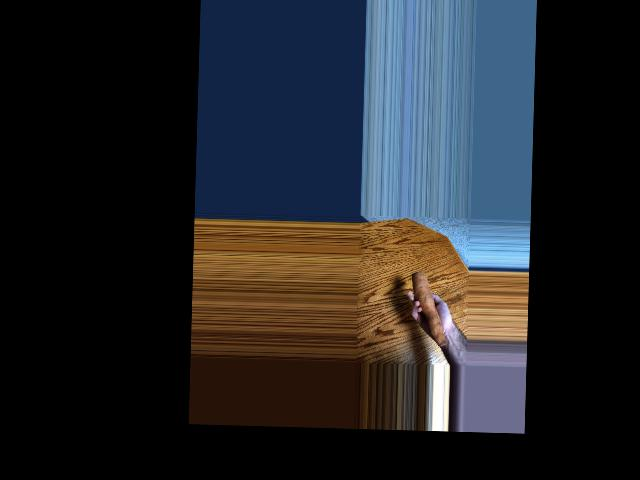sweet_potato: (415, 274, 449, 347)
